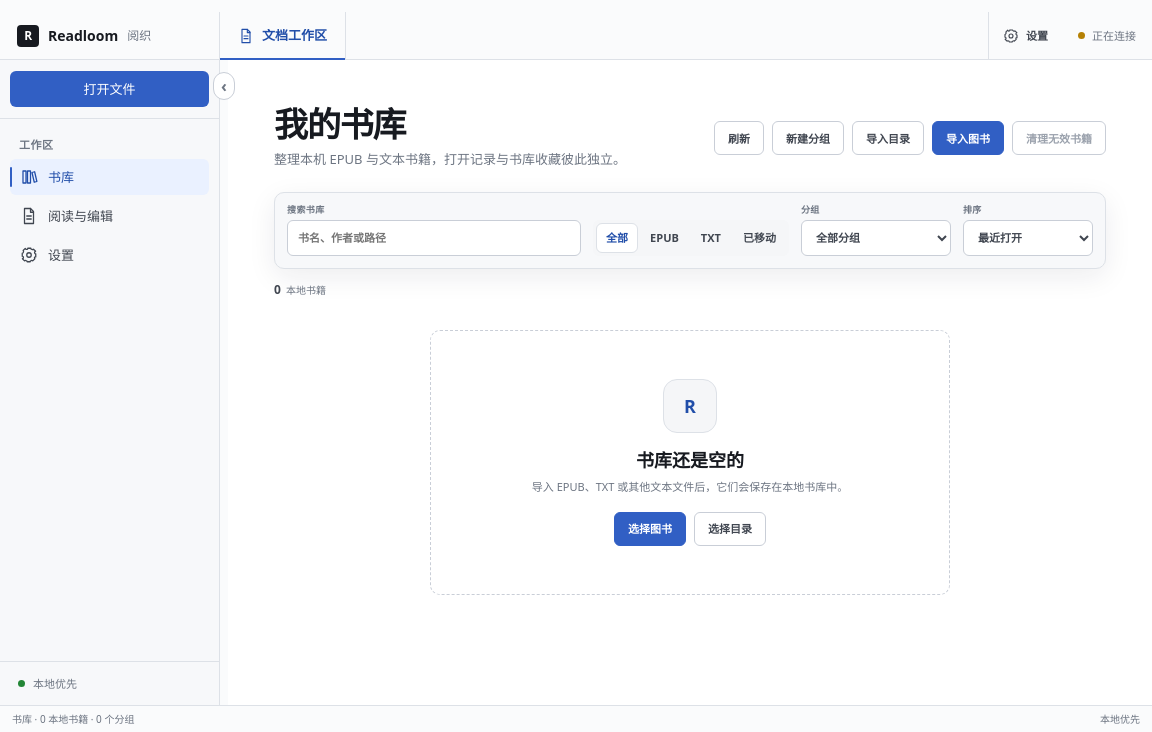
it: EPUB and TXT workspace tabs › restores the persisted TXT reading position without stealing focus
The width and height of the screenshot is (1152, 732).
Click the button "打开文件": point(110, 89) [10,71,209,107]
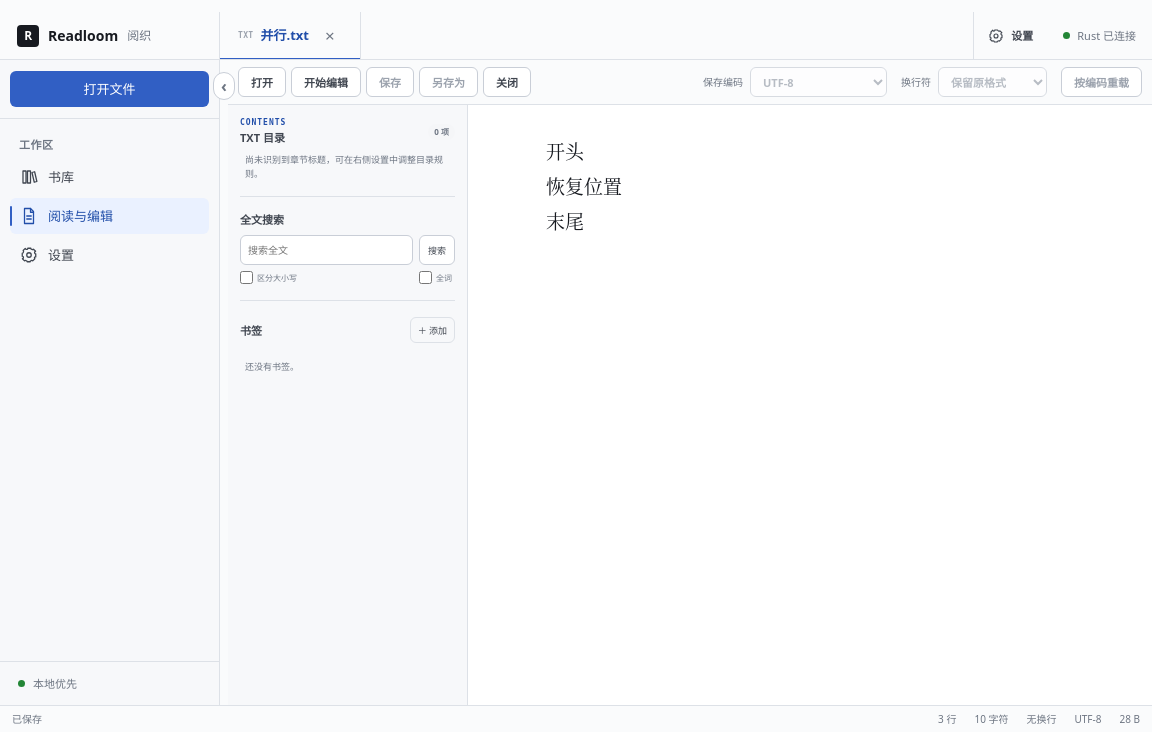
Check: the text "恢复位置" is shown, box [546,172,622,199]
